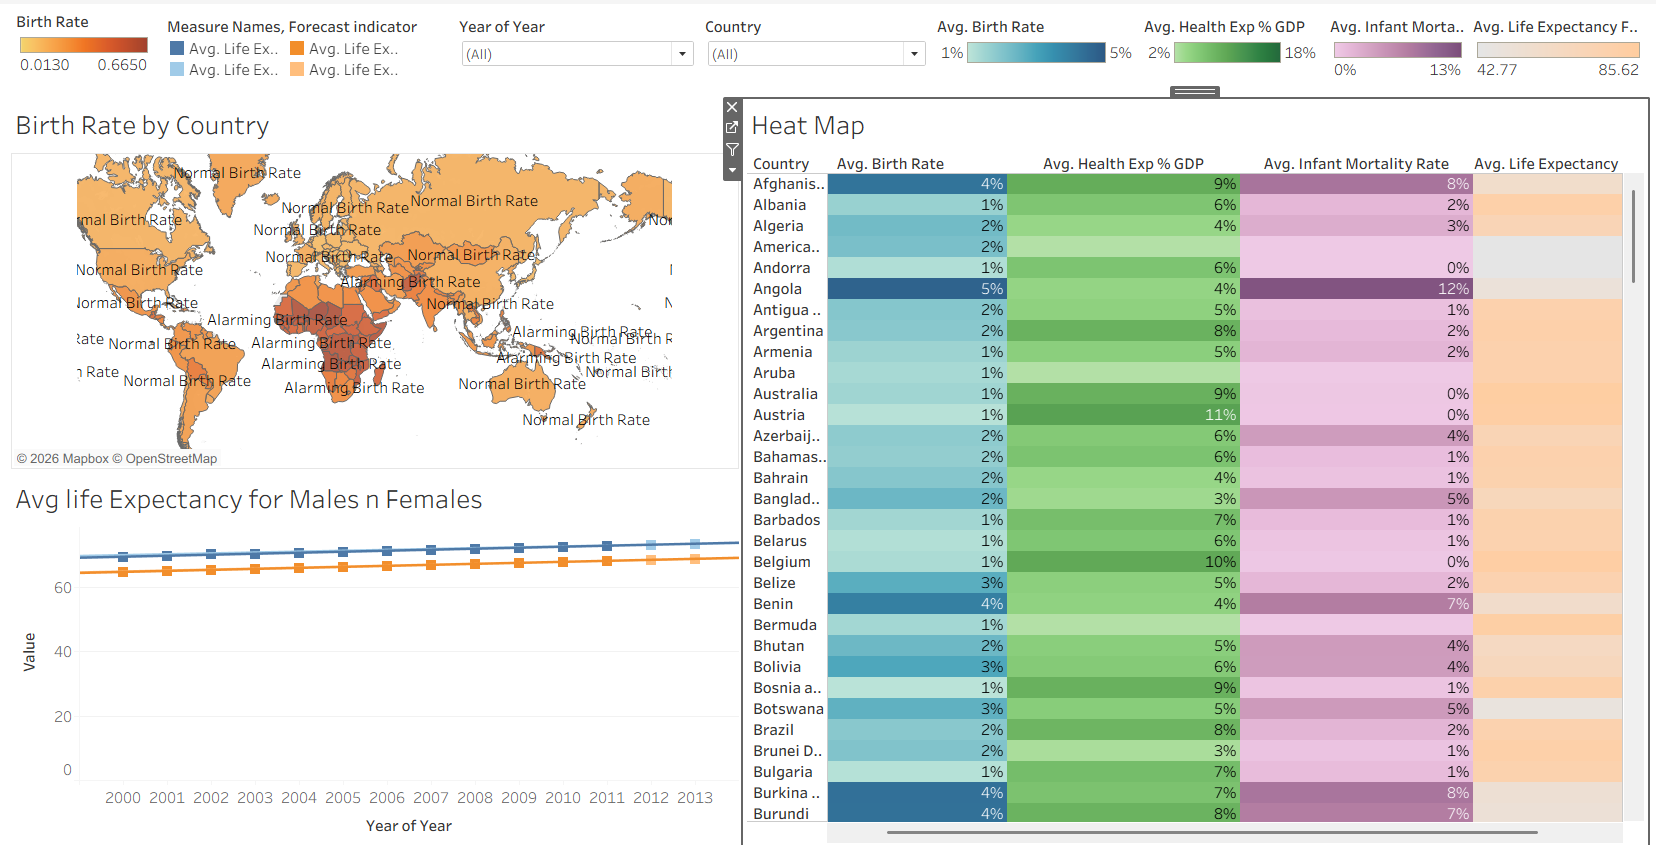

The dashboard page shown, as its layout file describes it:
{"tool":"tableau","page":{"name":"Health Dashboard","canvas":[1000,1000],"units":"permille","ordinal":2},"visuals":[{"type":"legend","title":"Birth Rate by Country","param":"[federated.1vapjht150gv1h16s4dpv105fy5q].[sum:Birth Rate:qk]","box":[10,8.2,82,103.4]},{"type":"legend","title":"Avg life Expectancy for Males n Females","param":"[federated.1vapjht150gv1h16s4dpv105fy5q].[:Measure Names]\n[federated.1vapjht150g","box":[99,9.4,176.3,102.2]},{"type":"filter","title":"Birth Rate by Country","param":"[federated.1vapjht150gv1h16s4dpv105fy5q].[yr:Year:ok]","box":[275.3,9.4,148.2,71.7]},{"type":"filter","title":"Birth Rate by Country","param":"[federated.1vapjht150gv1h16s4dpv105fy5q].[none:Country:nk]","box":[423.5,9.4,140,102.2]},{"type":"legend","title":"Heat Map","param":"[federated.1vapjht150gv1h16s4dpv105fy5q].[avg:Birth Rate:qk]","box":[563.5,9.4,125.4,102.2]},{"type":"legend","title":"Heat Map","param":"[federated.1vapjht150gv1h16s4dpv105fy5q].[avg:Health Exp % GDP:qk]","box":[688.9,9.4,112,102.2]},{"type":"legend","title":"Heat Map","param":"[federated.1vapjht150gv1h16s4dpv105fy5q].[avg:Infant Mortality Rate:qk]","box":[800.9,9.4,86.6,102.2]},{"type":"legend","title":"Heat Map","param":"[federated.1vapjht150gv1h16s4dpv105fy5q].[avg:Life Expectancy Female:qk]","box":[887.5,9.4,107.8,102.2]},{"type":"worksheet","title":"Birth Rate by Country","mark":"Multipolygon","box":[4.7,111.6,444,439.5]},{"type":"worksheet","title":"Heat Map","mark":"Square","rows":["Country"],"box":[448.7,111.6,546.6,879]},{"type":"worksheet","title":"Avg life Expectancy for Males n Females","mark":"Square","cols":["Year"],"box":[4.7,551.1,444,439.5]}]}

Visuals, with their boxes on the dashboard's canvas, which has no fixed pixel size, in thousandths of its width and height (x1, y1, x2, y2). These are canvas units, not pixel positions in the 1656x845 screenshot, which may show the page scaled, cropped or inside an application window:
"Birth Rate by Country" legend: left=10, top=8, right=92, bottom=112
"Avg life Expectancy for Males n Females" legend: left=99, top=9, right=275, bottom=112
"Birth Rate by Country" filter: left=275, top=9, right=424, bottom=81
"Birth Rate by Country" filter: left=424, top=9, right=564, bottom=112
"Heat Map" legend: left=564, top=9, right=689, bottom=112
"Heat Map" legend: left=689, top=9, right=801, bottom=112
"Heat Map" legend: left=801, top=9, right=888, bottom=112
"Heat Map" legend: left=888, top=9, right=995, bottom=112
"Birth Rate by Country" worksheet (Multipolygon marks): left=5, top=112, right=449, bottom=551
"Heat Map" worksheet (Square marks): left=449, top=112, right=995, bottom=991
"Avg life Expectancy for Males n Females" worksheet (Square marks): left=5, top=551, right=449, bottom=991
